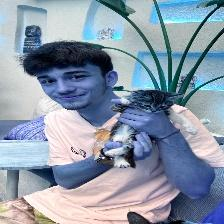kedo: (112, 91, 179, 168)
